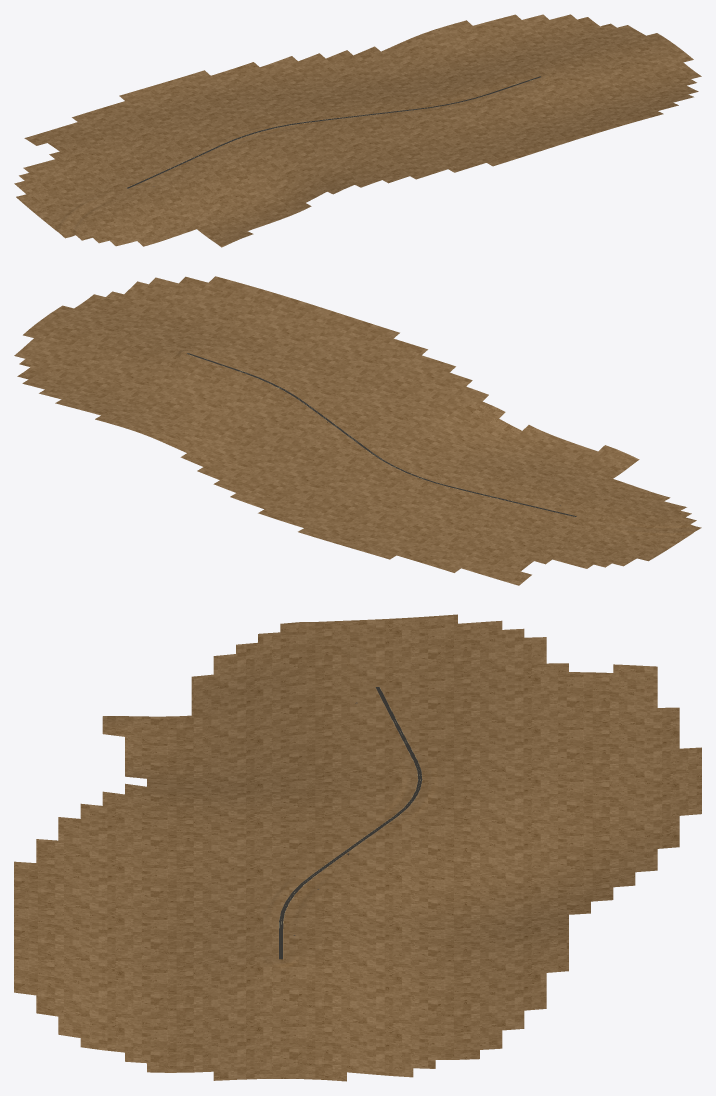
3 views of the same model, one above another, from view 1: azimuth 30°, elevation 25°; view 2: azimuth 150°, elevation 25°; view 3: azimuth 270°, elevation 25° (orthographic). The views are drawn at different scales.
Parts seen in each view (by area): view 1: S08_TERRAIN_LOD2_WEB_EXPORT, S08_ROAD_ASPHALT_LOD2_WEB_EXPORT; view 2: S08_TERRAIN_LOD2_WEB_EXPORT, S08_ROAD_ASPHALT_LOD2_WEB_EXPORT; view 3: S08_TERRAIN_LOD2_WEB_EXPORT, S08_ROAD_ASPHALT_LOD2_WEB_EXPORT.
Part boxes in pixels (x1,y1,x2,y2): S08_TERRAIN_LOD2_WEB_EXPORT: (14, 14, 701, 247); S08_ROAD_ASPHALT_LOD2_WEB_EXPORT: (127, 76, 540, 188); S08_TERRAIN_LOD2_WEB_EXPORT: (14, 276, 701, 585); S08_ROAD_ASPHALT_LOD2_WEB_EXPORT: (187, 353, 576, 516); S08_TERRAIN_LOD2_WEB_EXPORT: (14, 614, 701, 1081); S08_ROAD_ASPHALT_LOD2_WEB_EXPORT: (279, 687, 422, 959).
Bounding box in the file's own units: 2280 × 192 × 1240.
5 materials, 5 textured.
